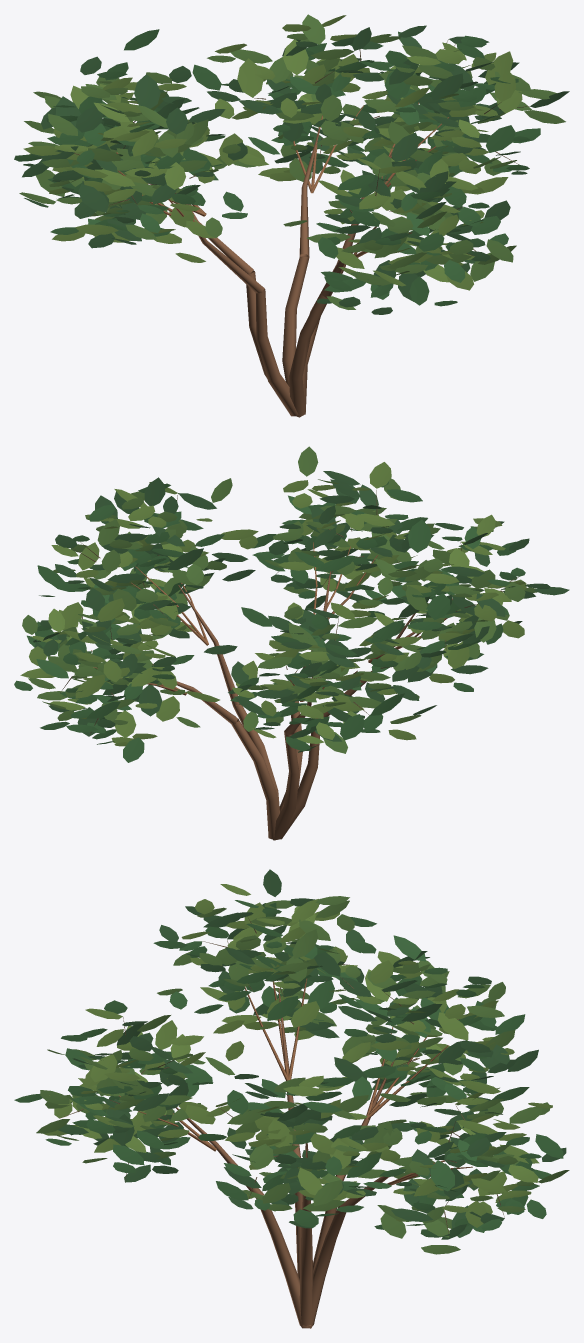
The model's file is ArbousierBuisson_0_High.fbx.
3 views of the same model, one above another, from view 1: azimuth 30°, elevation 25°; view 2: azimuth 150°, elevation 25°; view 3: azimuth 270°, elevation 25° (orthographic). The views are drawn at different scales.
Visible parts, largest first — view 1: ArbousierBuisson_0_High; view 2: ArbousierBuisson_0_High; view 3: ArbousierBuisson_0_High.
Part boxes in pixels (x1,y1,x2,y2): ArbousierBuisson_0_High: (14, 14, 569, 417); ArbousierBuisson_0_High: (14, 446, 569, 840); ArbousierBuisson_0_High: (14, 869, 569, 1328).
Size of the model in its own units: 305 by 212 by 300.
